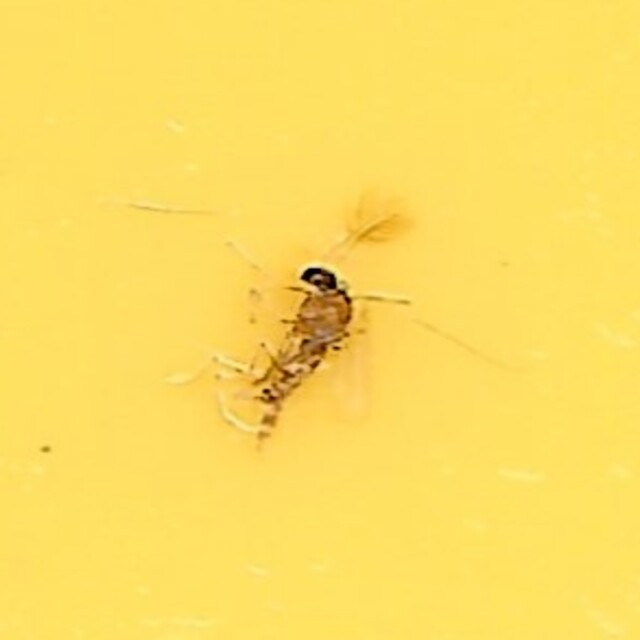Nematocera: (218, 192, 422, 448)
